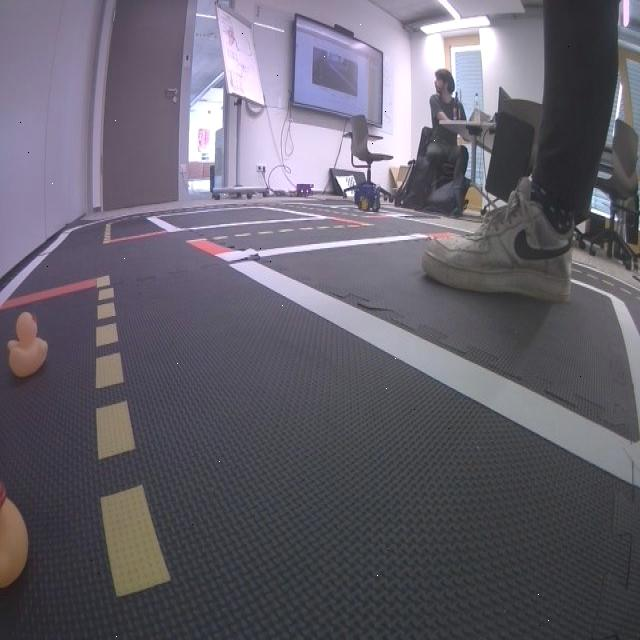duckie: (1, 484, 28, 592), (8, 310, 50, 377)
